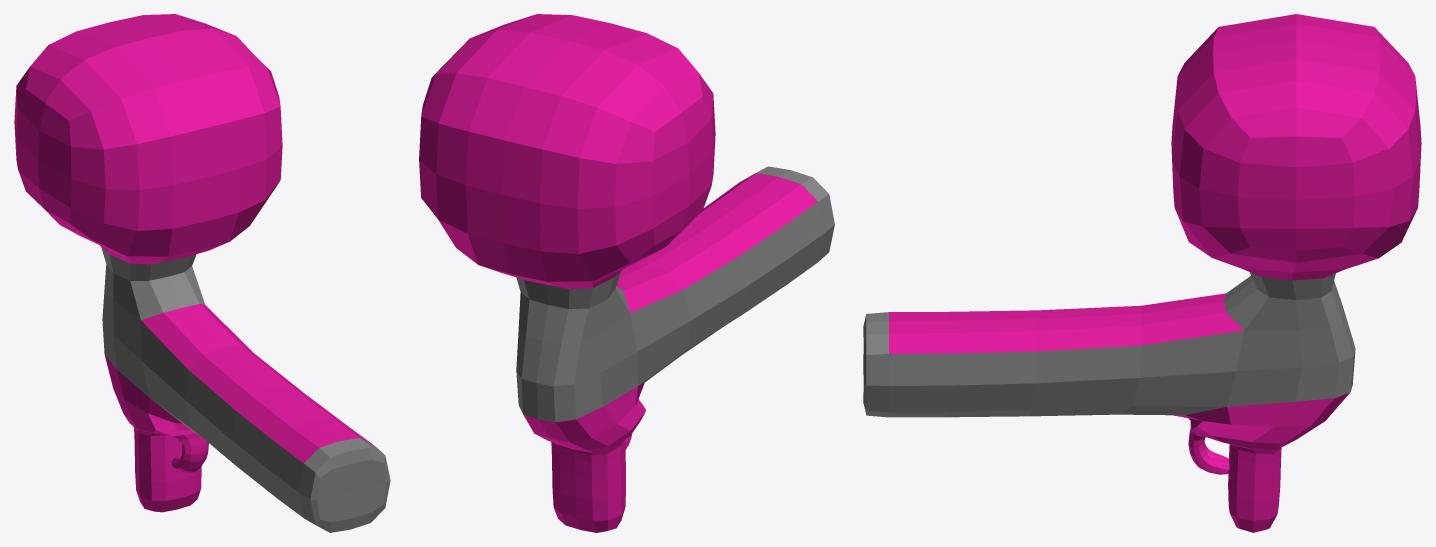
Rendered from bubblegumblaster.fbx.
3 renders of one model, left to right at view 1: azimuth 30°, elevation 25°; view 2: azimuth 150°, elevation 25°; view 3: azimuth 270°, elevation 25°, orthographic. The views are drawn at different scales.
Parts seen in each view (by area): view 1: Cube; view 2: Cube; view 3: Cube.
Boxes of the visible parts, bbox=[...] form: Cube: bbox=[14, 14, 390, 532]; Cube: bbox=[419, 14, 834, 532]; Cube: bbox=[863, 14, 1421, 532].
Size of the model in its own units: 560 by 1107 by 1153.
